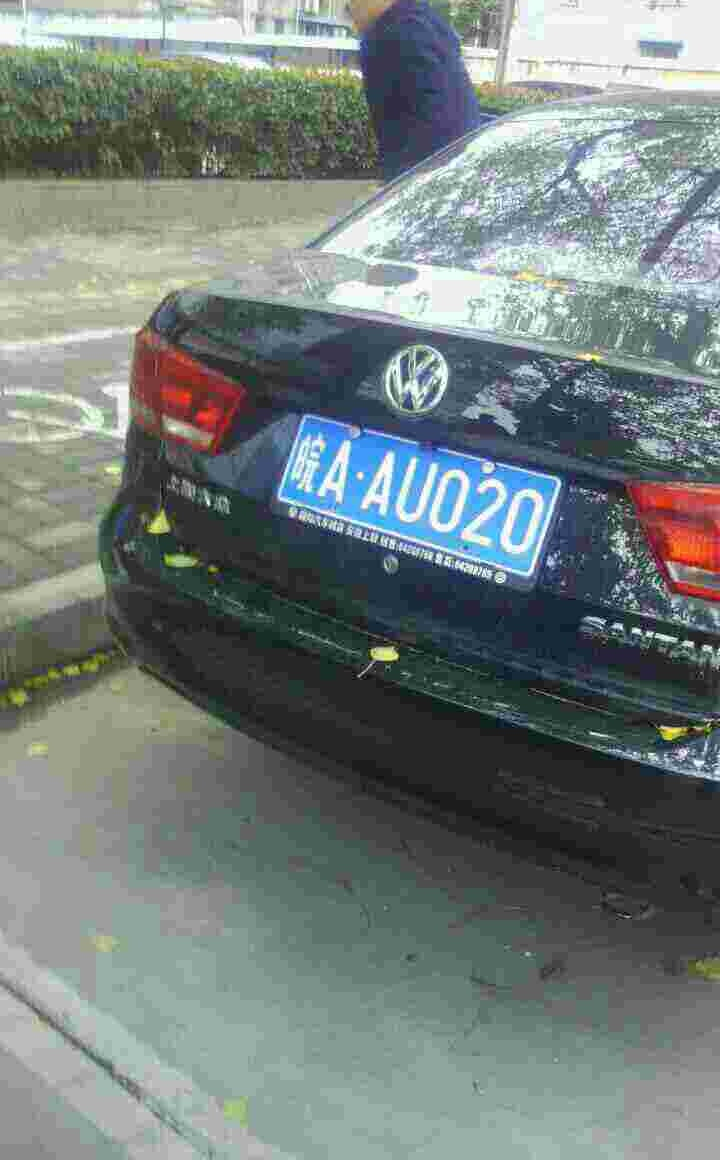car: (281, 409, 562, 562)
